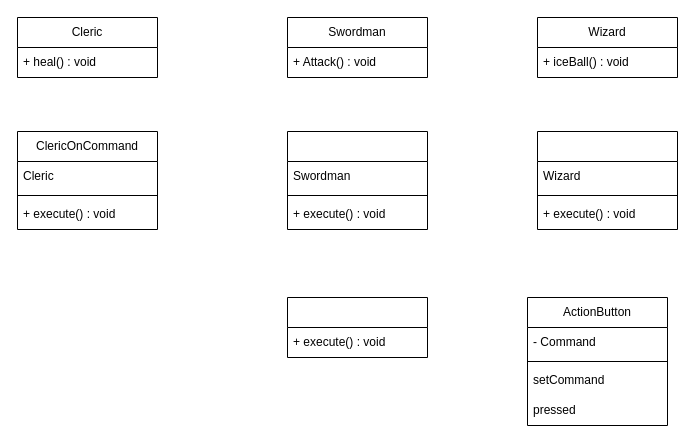
This 695x443 diagram has some shape labels left out. The shapes that lost their labels are listed below. From the top down, each one's box as (x1, y1, x2, y2) in pixels, then its label:
(286, 130, 428, 230): SwordmanOnCommand
(536, 130, 678, 230): WizardOnCommand
(286, 296, 428, 358): Command
